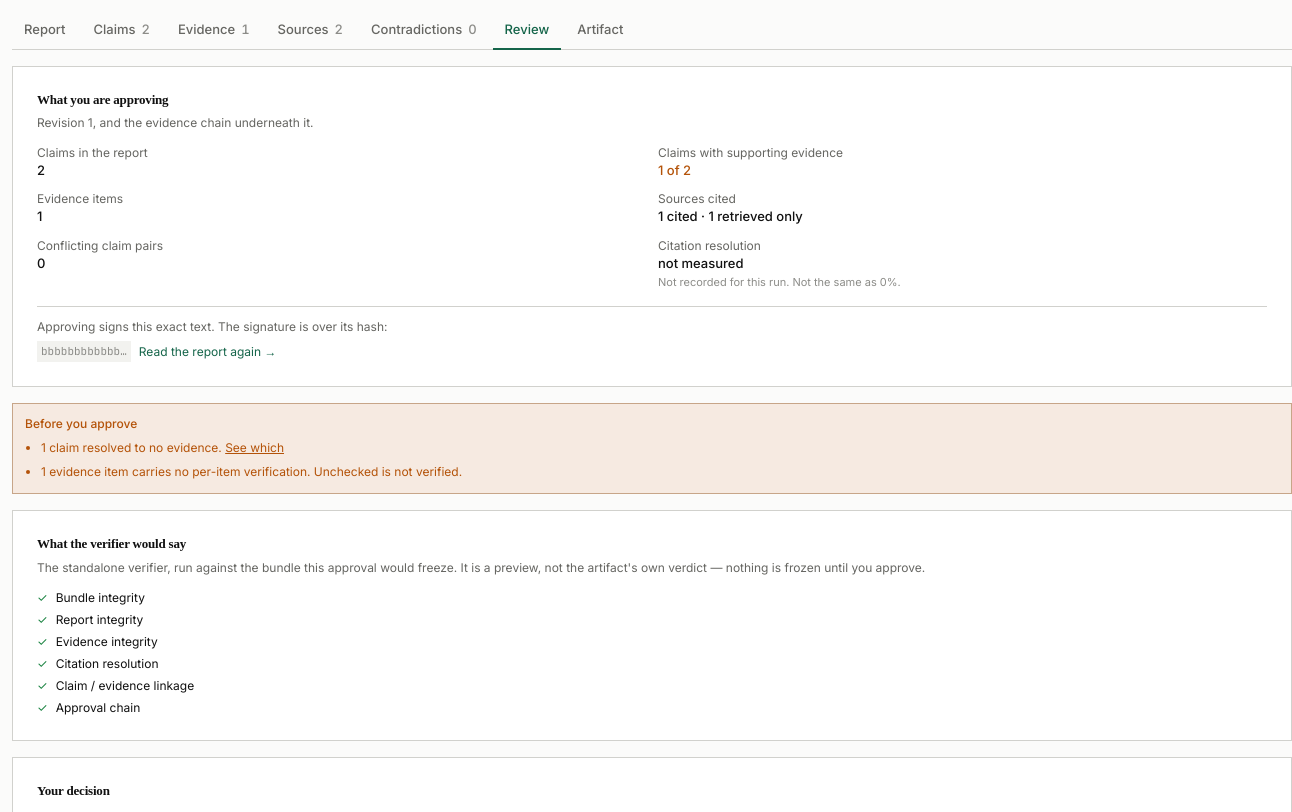
Test case: the evidence chain › does not claim the detector ran when there is no record either way
The image size is (1292, 812).
Step 1. Click the tab "Contradictions0" → [424, 31], box top-left (359, 12), bottom-right (489, 50)
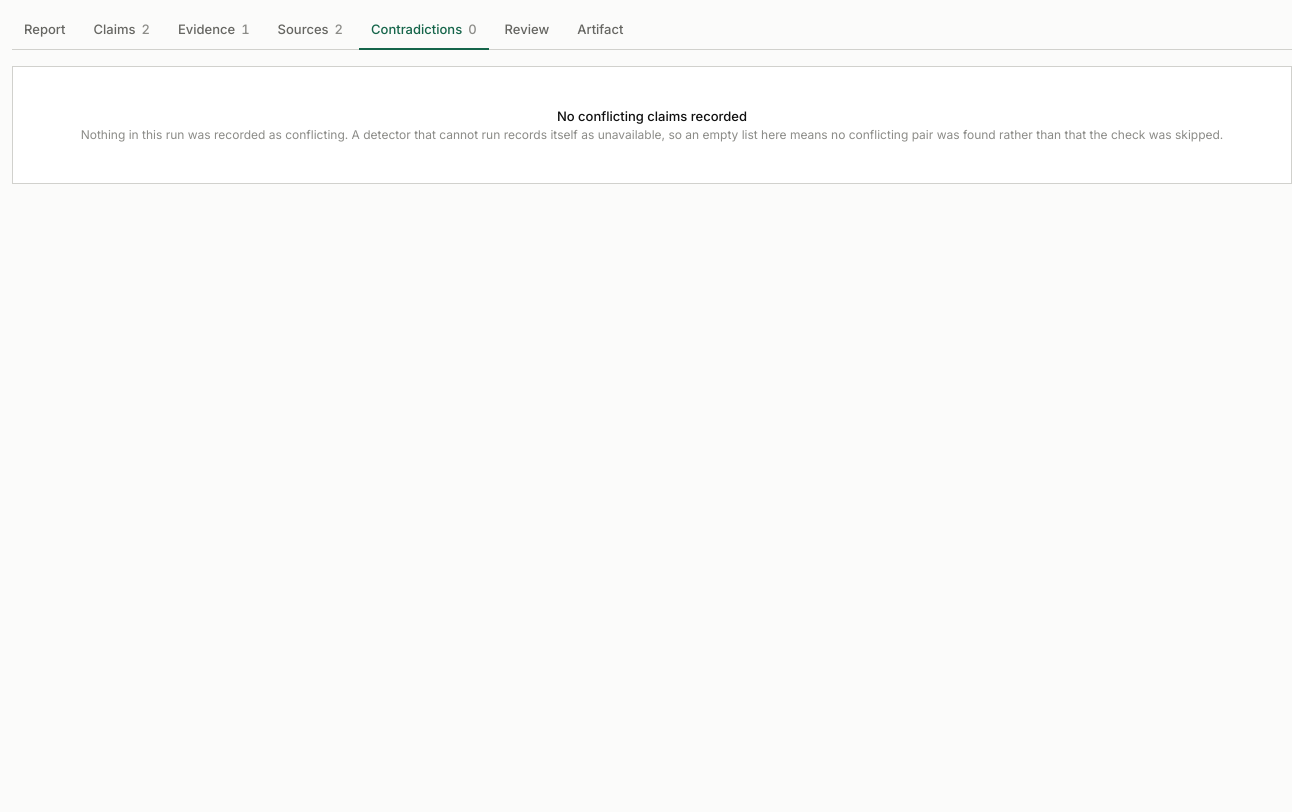
expect the text "No conflicting claims recorded" is shown: met, box top-left (557, 106), bottom-right (747, 125)
expect the text "records itself as unavailable" is shown: met, box top-left (81, 127), bottom-right (1223, 142)
